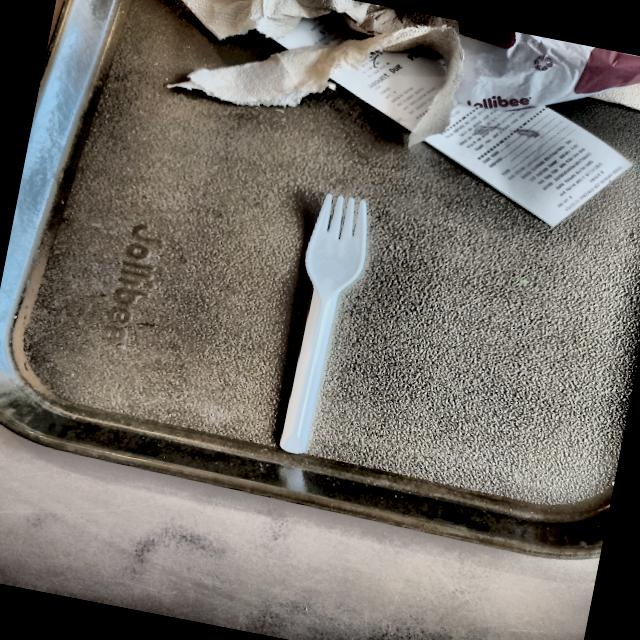plastic utensil: (280, 194, 367, 454)
